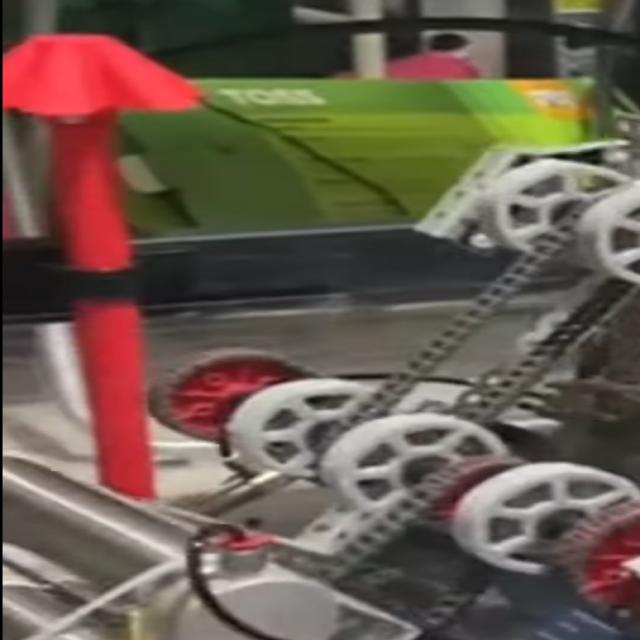zred-Stake-Head: (3, 34, 197, 117)
